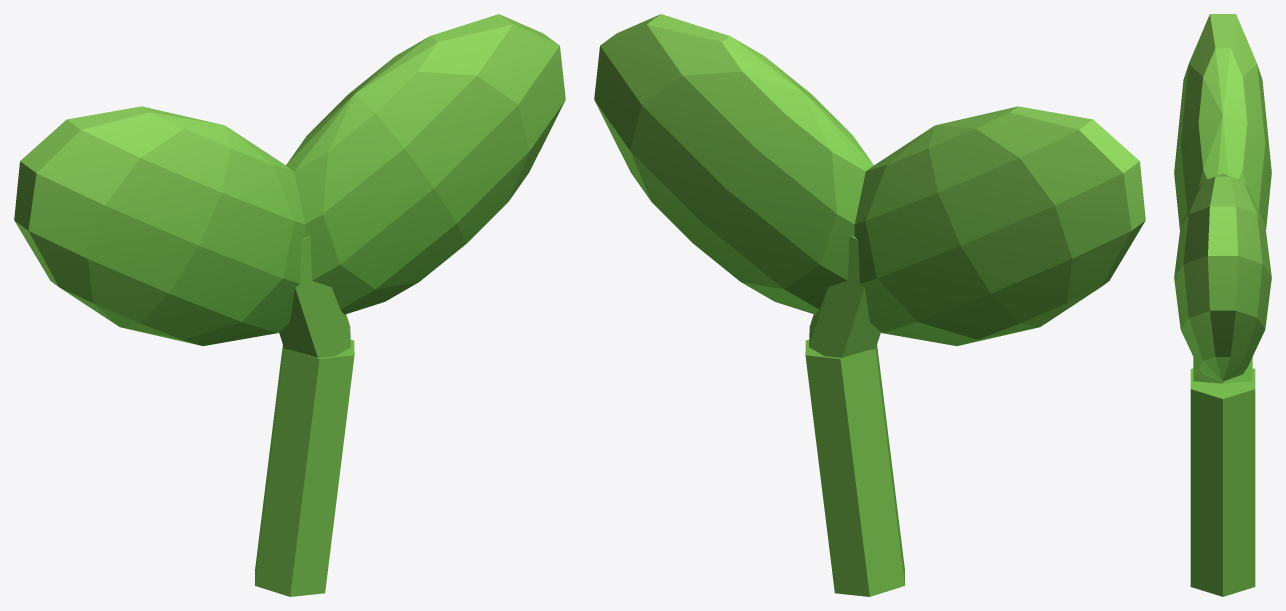
The model's file is baby_tuft.glb.
3 views of the same model, side by side, from view 1: azimuth 30°, elevation 25°; view 2: azimuth 150°, elevation 25°; view 3: azimuth 270°, elevation 25° (orthographic). The views are drawn at different scales.
Visible parts, largest first — view 1: sprout; view 2: sprout; view 3: sprout.
Boxes of the visible parts, box(x1,y1,x2,y2) form: sprout: box(14, 14, 565, 596); sprout: box(594, 14, 1145, 596); sprout: box(1174, 14, 1271, 596).
Bounding box in the file's own units: 0.3655 × 0.3348 × 0.063.
1 material, 1 textured.
